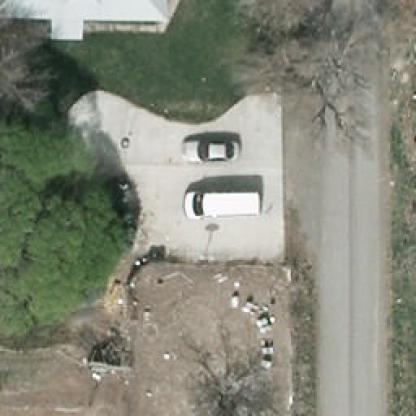car: (180, 136, 245, 164)
van: (178, 189, 264, 216)
